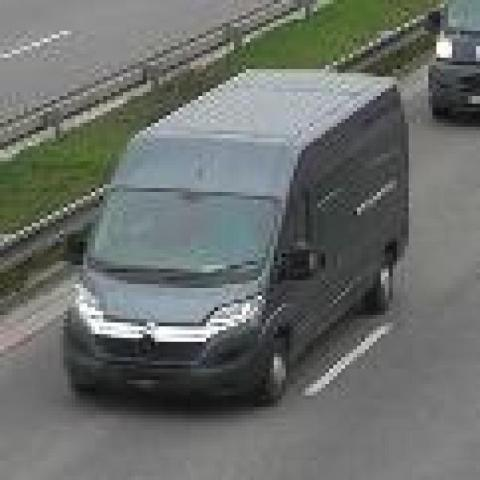van: (65, 69, 403, 400)
